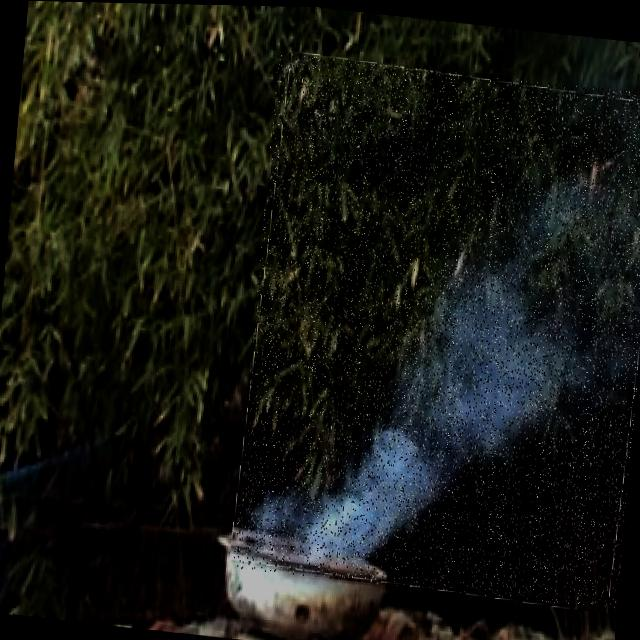no_helmet: (231, 49, 640, 606)
